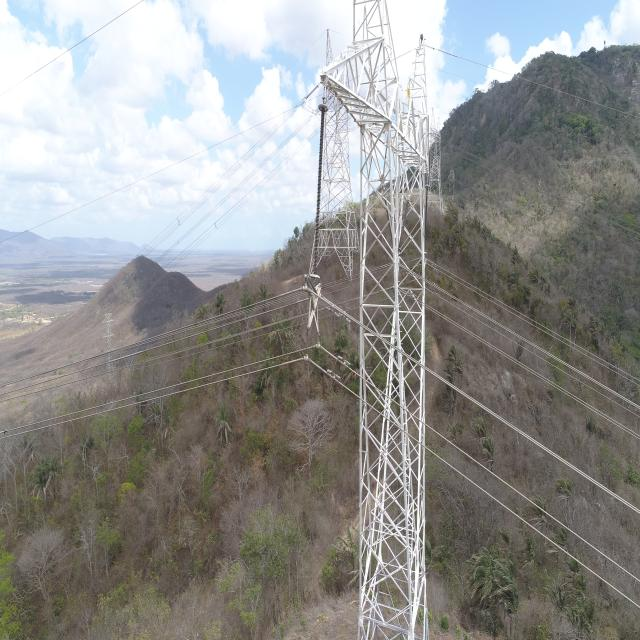杆塔: (326, 5, 430, 629)
正常电缆: (0, 109, 275, 252), (437, 449, 640, 613), (1, 283, 295, 394), (434, 367, 640, 519), (445, 432, 640, 588), (1, 340, 317, 435), (434, 303, 639, 445), (0, 354, 306, 441)
正常绝缘子: (309, 103, 329, 281), (422, 183, 429, 256)
